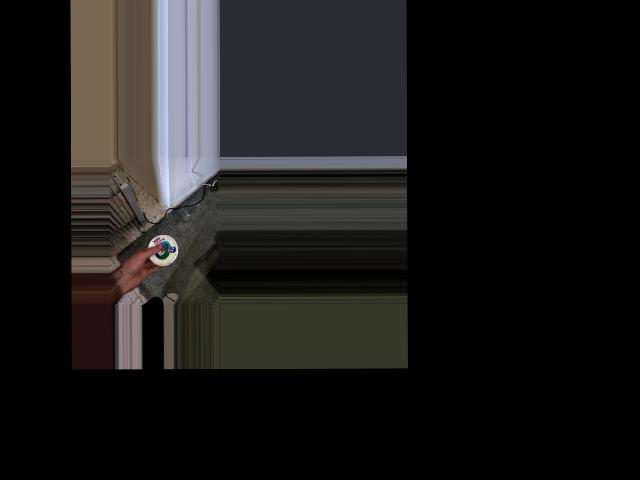cotage: (147, 236, 176, 265)
